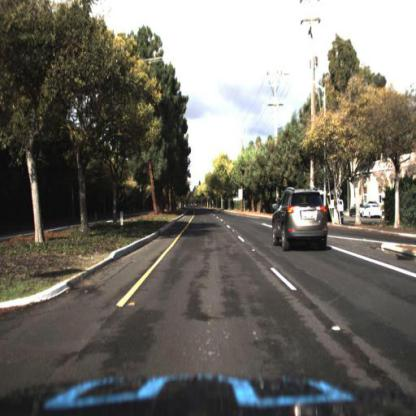car: (272, 189, 330, 253), (359, 200, 386, 225), (361, 202, 384, 220), (348, 205, 364, 221)
